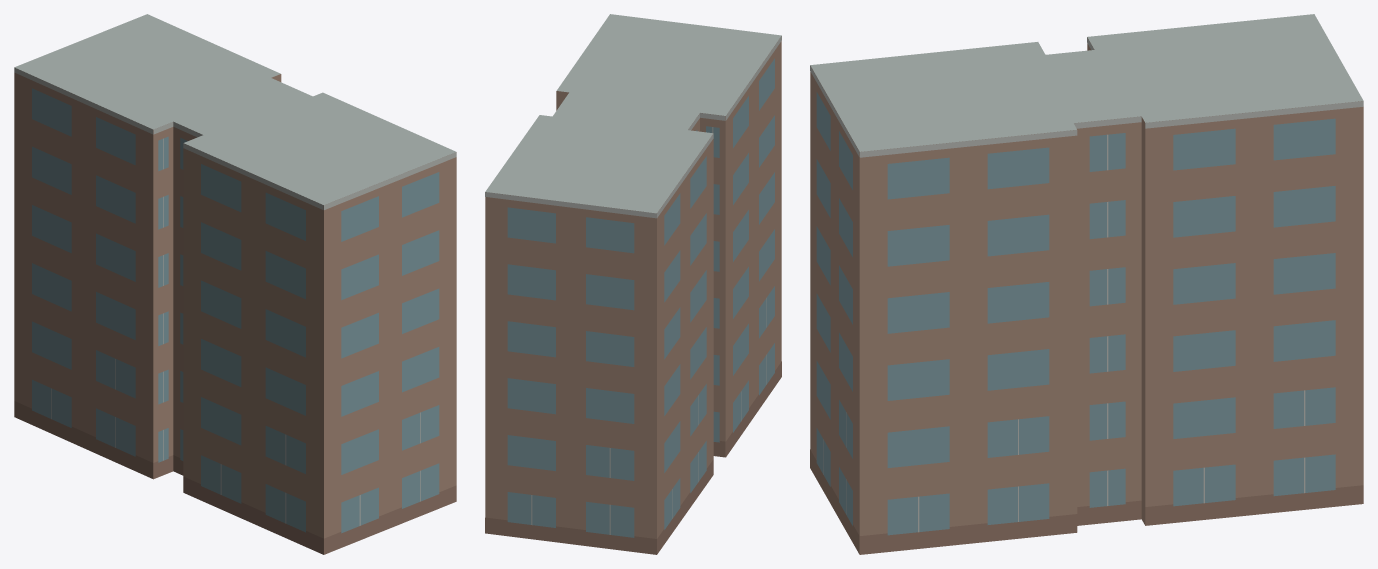
File: survey-upis-32595730.glb
The picture shows the model from 3 angles, left to right: view 1: azimuth 30°, elevation 25°; view 2: azimuth 150°, elevation 25°; view 3: azimuth 270°, elevation 25°; orthographic projection. The views are drawn at different scales.
Visible parts, largest first — view 1: survey-upis-32595730.tmp; view 2: survey-upis-32595730.tmp; view 3: survey-upis-32595730.tmp.
Boxes of the visible parts, x1=… form: survey-upis-32595730.tmp: x1=14, y1=14, x2=456, y2=554; survey-upis-32595730.tmp: x1=485, y1=14, x2=781, y2=554; survey-upis-32595730.tmp: x1=810, y1=14, x2=1363, y2=554.
Bounding box in the file's own units: 12.34 × 16.8 × 20.92.
